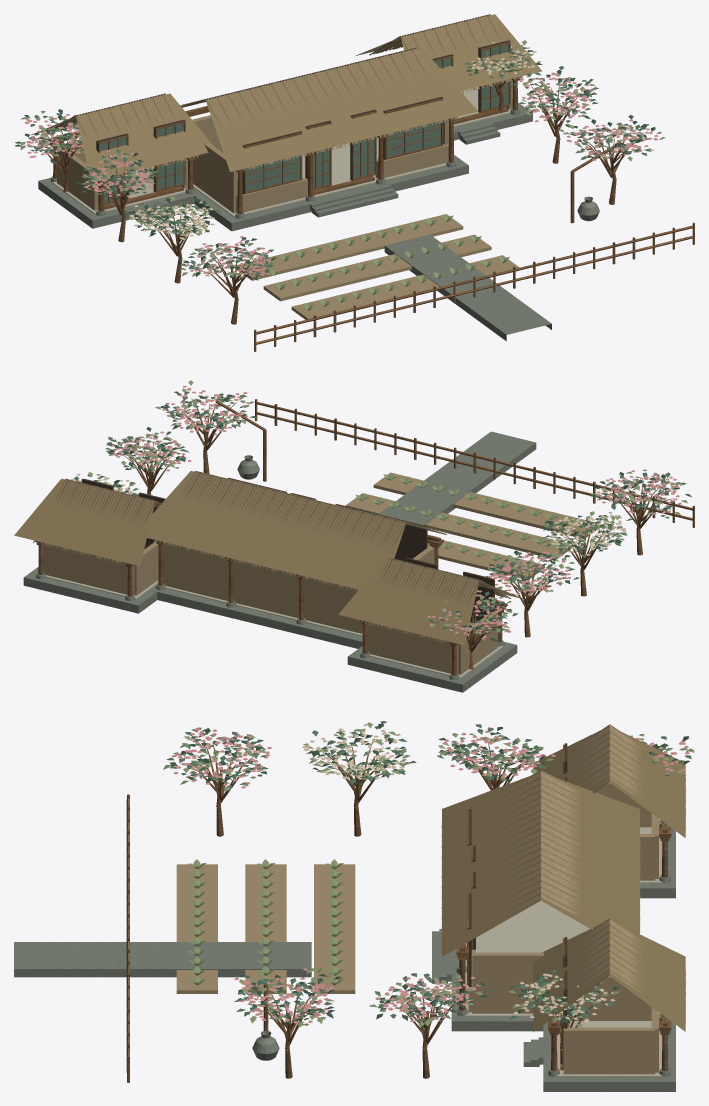
The model's file is daoxiangcun.glb.
3 views of the same model, one above another, from view 1: azimuth 30°, elevation 25°; view 2: azimuth 150°, elevation 25°; view 3: azimuth 270°, elevation 25° (orthographic). The views are drawn at different scales.
Visible parts, largest first — view 1: daoxiangcun_thatch, daoxiangcun_clay, daoxiangcun_wood, daoxiangcun_stone, daoxiangcun_screen, daoxiangcun_lightleaf, daoxiangcun_flower, daoxiangcun_leaf, daoxiangcun_paving, daoxiangcun_leafdark, daoxiangcun_creamflower, daoxiangcun_darkwood; view 2: daoxiangcun_thatch, daoxiangcun_clay, daoxiangcun_stone, daoxiangcun_wood, daoxiangcun_lightleaf, daoxiangcun_flower, daoxiangcun_leaf, daoxiangcun_darkwood, daoxiangcun_leafdark, daoxiangcun_paving, daoxiangcun_creamflower; view 3: daoxiangcun_thatch, daoxiangcun_clay, daoxiangcun_stone, daoxiangcun_lightleaf, daoxiangcun_wood, daoxiangcun_paving, daoxiangcun_flower, daoxiangcun_leaf, daoxiangcun_leafdark, daoxiangcun_creamflower, daoxiangcun_darkwood.
Part boxes in pixels (bbox=[...]): daoxiangcun_thatch: bbox=[29, 14, 541, 180]; daoxiangcun_clay: bbox=[51, 14, 523, 319]; daoxiangcun_wood: bbox=[33, 42, 694, 351]; daoxiangcun_stone: bbox=[38, 102, 599, 341]; daoxiangcun_screen: bbox=[100, 44, 508, 202]; daoxiangcun_lightleaf: bbox=[20, 40, 665, 310]; daoxiangcun_flower: bbox=[24, 72, 661, 278]; daoxiangcun_leaf: bbox=[30, 50, 651, 276]; daoxiangcun_paving: bbox=[52, 87, 510, 217]; daoxiangcun_leafdark: bbox=[14, 47, 655, 280]; daoxiangcun_creamflower: bbox=[129, 41, 536, 239]; daoxiangcun_darkwood: bbox=[96, 40, 510, 201]; daoxiangcun_thatch: bbox=[14, 471, 525, 645]; daoxiangcun_clay: bbox=[33, 470, 599, 674]; daoxiangcun_stone: bbox=[23, 431, 536, 692]; daoxiangcun_wood: bbox=[35, 398, 694, 675]; daoxiangcun_lightleaf: bbox=[77, 380, 687, 633]; daoxiangcun_flower: bbox=[110, 385, 681, 639]; daoxiangcun_leaf: bbox=[74, 391, 686, 634]; daoxiangcun_darkwood: bbox=[81, 477, 494, 627]; daoxiangcun_leafdark: bbox=[87, 391, 691, 642]; daoxiangcun_paving: bbox=[45, 575, 503, 678]; daoxiangcun_creamflower: bbox=[71, 473, 626, 557]; daoxiangcun_thatch: bbox=[441, 724, 685, 1031]; daoxiangcun_clay: bbox=[176, 726, 686, 1074]; daoxiangcun_stone: bbox=[14, 819, 675, 1091]; daoxiangcun_lightleaf: bbox=[163, 722, 694, 1027]; daoxiangcun_wood: bbox=[126, 739, 671, 1082]; daoxiangcun_paving: bbox=[465, 823, 662, 1076]; daoxiangcun_flower: bbox=[171, 727, 689, 1025]; daoxiangcun_leaf: bbox=[166, 721, 691, 1021]; daoxiangcun_leafdark: bbox=[169, 723, 689, 1025]; daoxiangcun_creamflower: bbox=[302, 723, 614, 1022]; daoxiangcun_darkwood: bbox=[469, 743, 567, 1028].
Size of the model in its own units: 30.65 by 6.21 by 29.73.
Materials: 12 (2 with a texture image).
